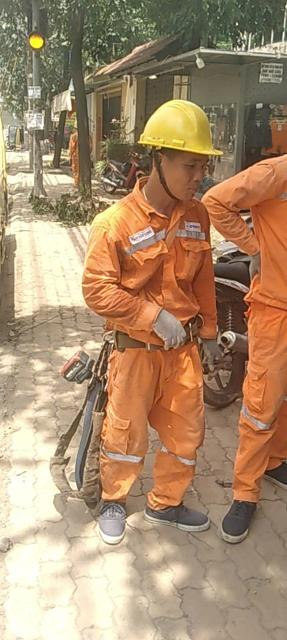gloves: (140, 305, 186, 351), (240, 246, 267, 297)
harness: (104, 310, 213, 356)
helmet: (137, 89, 234, 177)
shoes: (207, 482, 265, 546), (140, 495, 209, 543), (87, 491, 136, 555)
